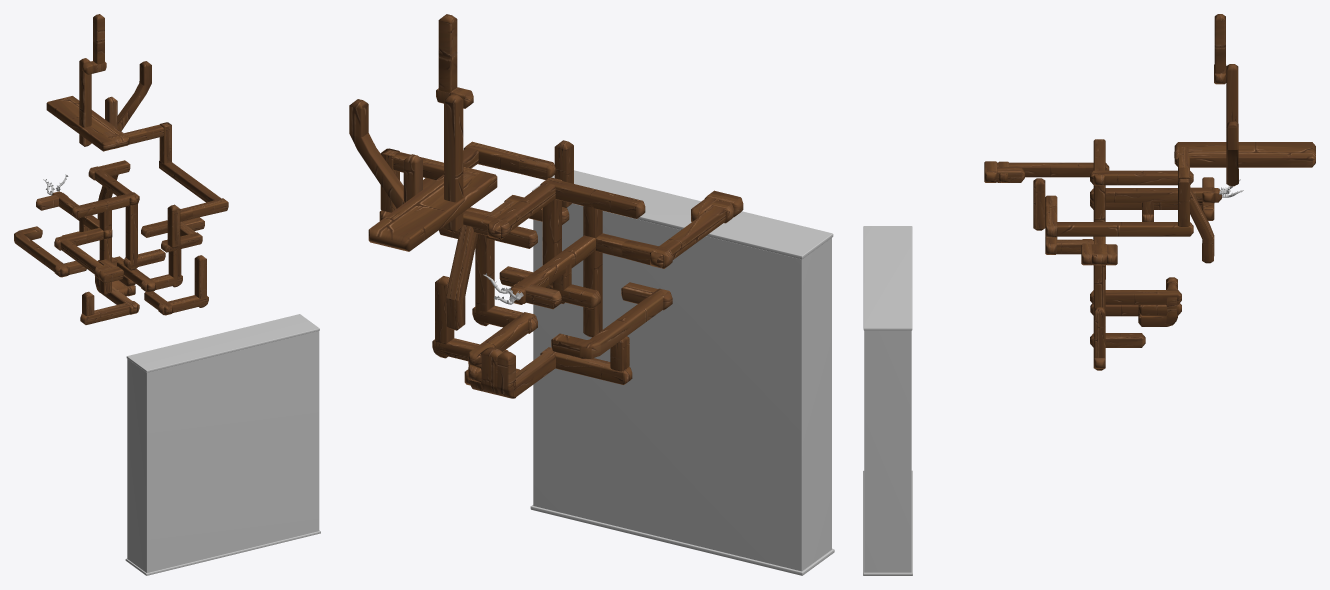
File: level_6_mesh.fbx
The picture shows the model from 3 angles, left to right: view 1: azimuth 30°, elevation 25°; view 2: azimuth 150°, elevation 25°; view 3: azimuth 270°, elevation 25°; orthographic projection. The views are drawn at different scales.
Visible parts, largest first — view 1: wall, fake_block5, real_block47, real_block3, real_block5, real_block1, real_block10, real_block13, polySurface2, real_block6, real_block29, real_block8 (+12 smaller); view 2: wall, fake_block5, real_block47, real_block27, real_block10, real_block5, real_block44, real_block8, real_block23, real_block29, real_block6, polySurface2 (+17 smaller); view 3: wall, fake_block5, real_block3, real_block6, real_block8, real_block38, real_block18, real_block27, real_block47, real_block29, real_block25, real_block (+3 smaller).
Boxes of the visible parts, left/top/right/bottom form: wall: left=125, top=314, right=320, bottom=575; fake_block5: left=46, top=58, right=129, bottom=151; real_block47: left=14, top=226, right=86, bottom=277; real_block3: left=159, top=161, right=221, bottom=202; real_block5: left=72, top=192, right=139, bottom=218; real_block1: left=125, top=204, right=137, bottom=270; real_block10: left=99, top=208, right=111, bottom=294; real_block13: left=80, top=301, right=139, bottom=324; polySurface2: left=117, top=82, right=151, bottom=131; real_block6: left=90, top=166, right=138, bottom=205; real_block29: left=93, top=14, right=104, bottom=64; real_block8: left=60, top=239, right=107, bottom=273; wall: left=530, top=170, right=834, bottom=575; fake_block5: left=368, top=94, right=497, bottom=251; real_block47: left=551, top=282, right=672, bottom=358; real_block27: left=446, top=224, right=478, bottom=330; real_block10: left=583, top=204, right=602, bottom=337; real_block5: left=540, top=178, right=645, bottom=218; real_block44: left=497, top=347, right=556, bottom=398; real_block8: left=650, top=201, right=732, bottom=268; real_block23: left=475, top=233, right=494, bottom=326; real_block29: left=438, top=14, right=457, bottom=92; real_block6: left=487, top=177, right=561, bottom=239; polySurface2: left=350, top=133, right=404, bottom=208; wall: left=863, top=226, right=912, bottom=575; fake_block5: left=1174, top=64, right=1315, bottom=186; real_block3: left=1056, top=222, right=1193, bottom=236; real_block6: left=1090, top=170, right=1193, bottom=185; real_block8: left=997, top=162, right=1109, bottom=177; real_block38: left=1090, top=188, right=1177, bottom=202; real_block18: left=1090, top=290, right=1181, bottom=304; real_block27: left=1190, top=187, right=1214, bottom=263; real_block47: left=1090, top=199, right=1214, bottom=220; real_block29: left=1214, top=14, right=1225, bottom=73; real_block25: left=1093, top=307, right=1105, bottom=370; real_block: left=1033, top=178, right=1045, bottom=230.
Bounding box in the file's own units: 2020 × 4731 × 3752.
